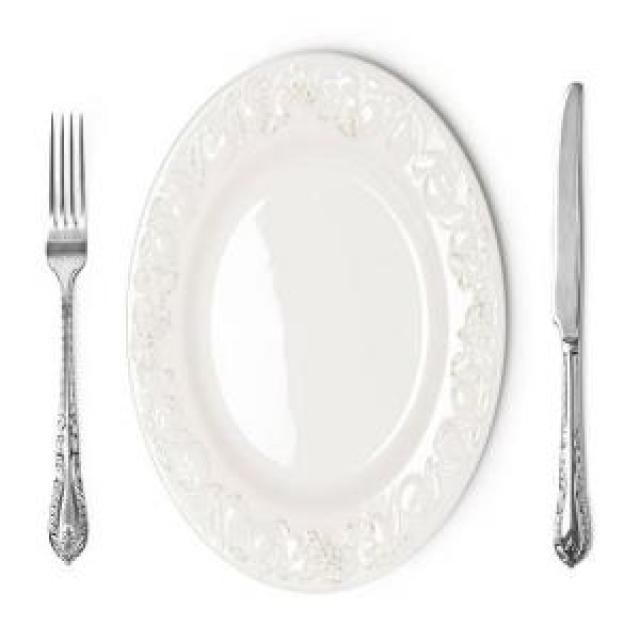knife: (550, 70, 593, 573)
